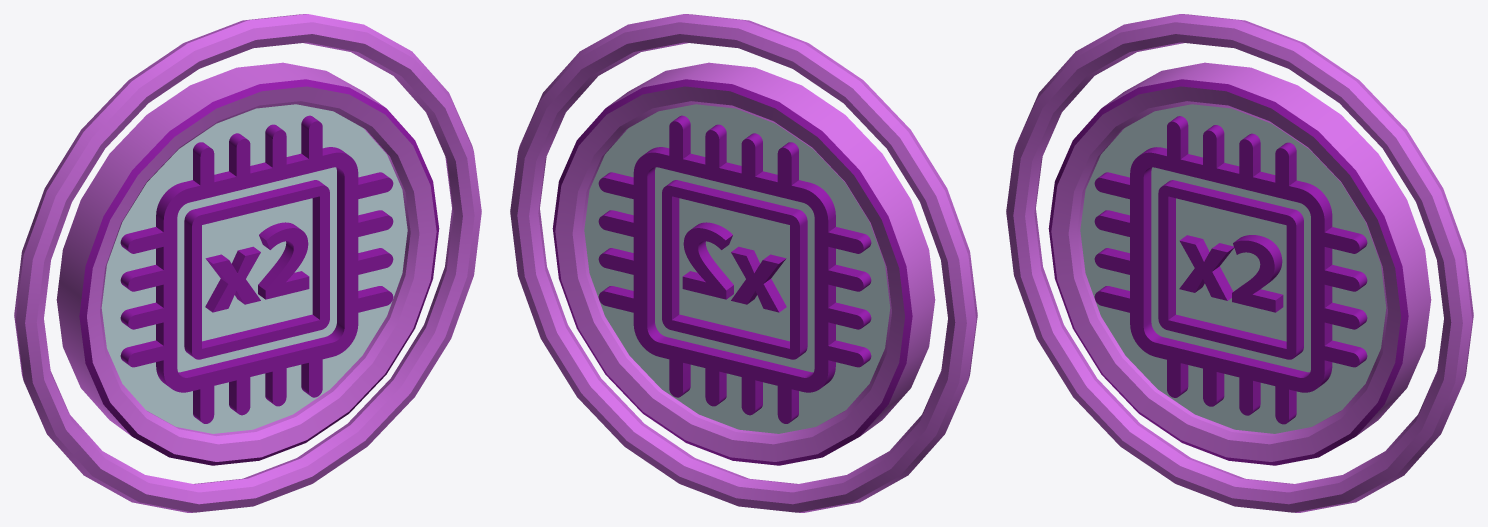
The model's file is TU_power_multiplier.fbx.
3 renders of one model, left to right at view 1: azimuth 30°, elevation 25°; view 2: azimuth 150°, elevation 25°; view 3: azimuth 330°, elevation 25°, orthographic.
Parts seen in each view (by area): view 1: TU_power_multiplier; view 2: TU_power_multiplier; view 3: TU_power_multiplier.
Boxes of the visible parts, left/top/right/bottom form: TU_power_multiplier: left=14, top=14, right=481, bottom=512; TU_power_multiplier: left=510, top=14, right=977, bottom=512; TU_power_multiplier: left=1006, top=14, right=1473, bottom=512.
Size of the model in its own units: 227 by 227 by 23.31.
